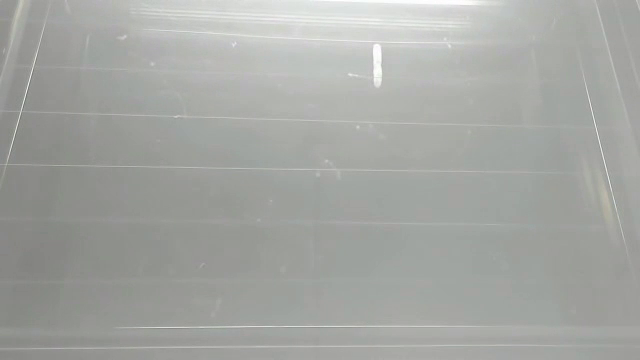alpha: (369, 41, 391, 91)
